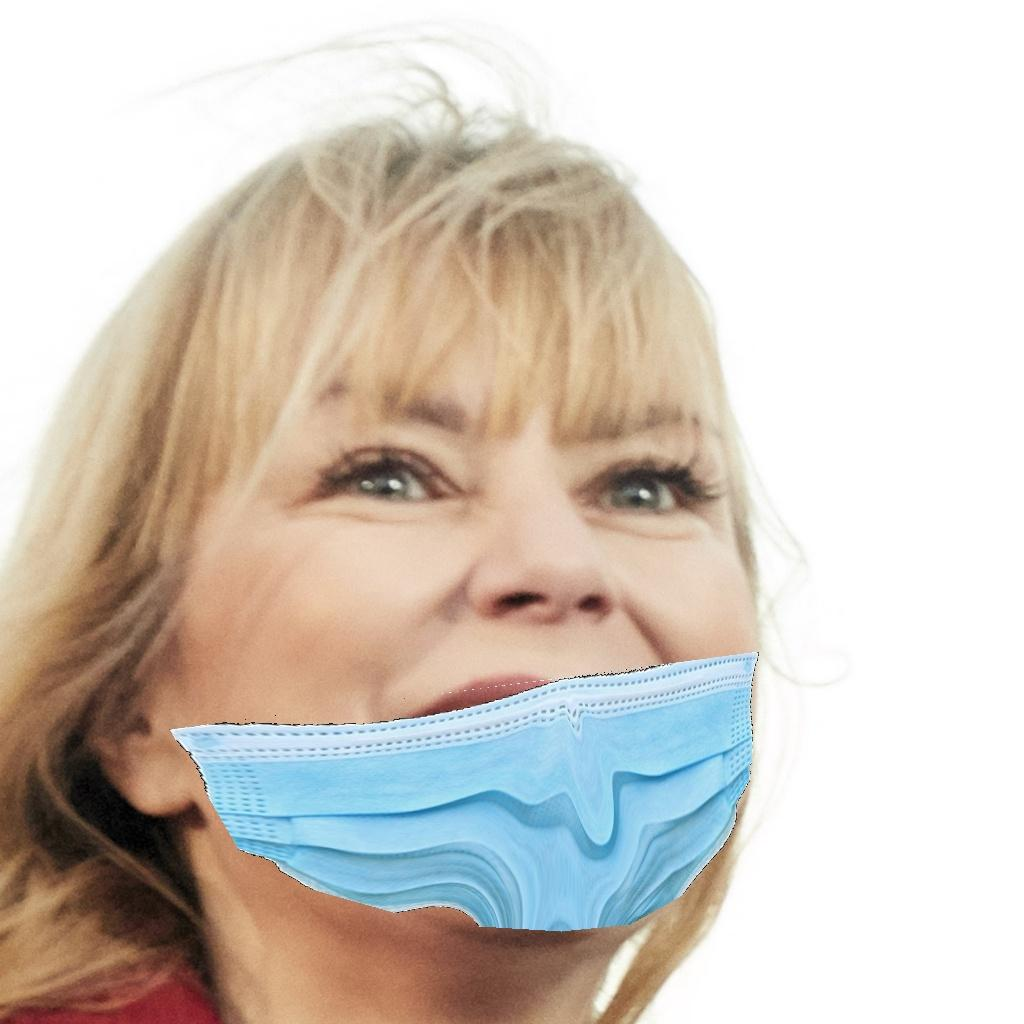Máscara Incorreta: (165, 310, 780, 918)
